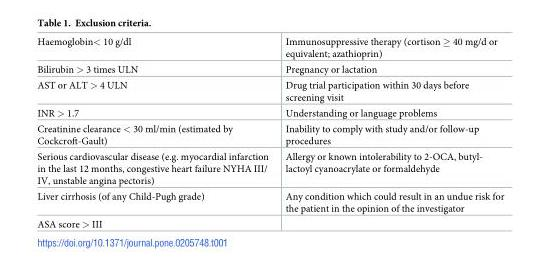table: (36, 36, 503, 229)
table column: (36, 36, 276, 229), (276, 36, 503, 229)
table row: (36, 148, 503, 188), (36, 120, 503, 148), (36, 188, 503, 216), (36, 77, 503, 104), (36, 36, 503, 61), (36, 61, 503, 77), (36, 104, 503, 120), (36, 216, 503, 229)
